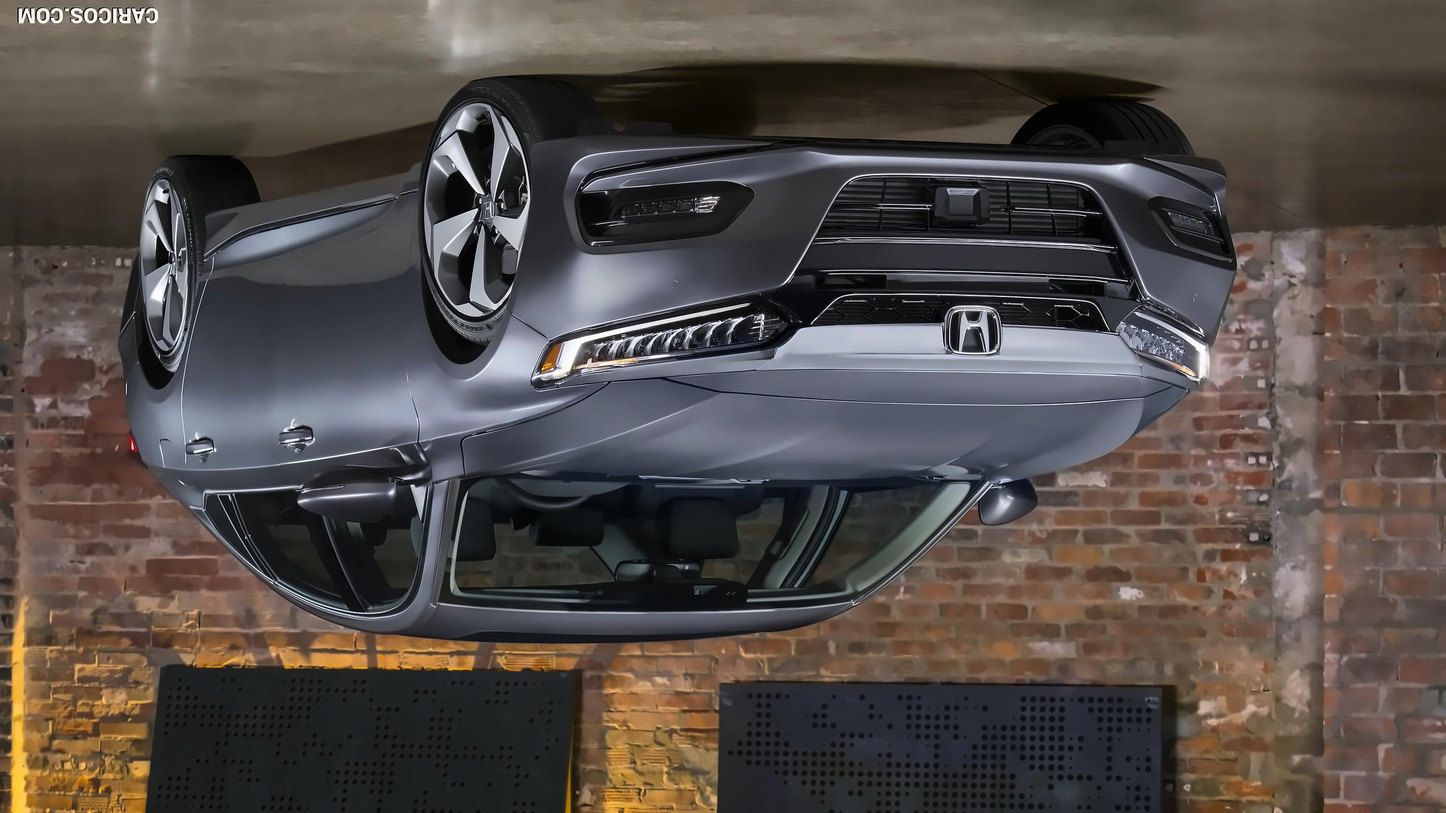Car hood: (447, 362, 1196, 481)
Fender - -F-L-: (405, 297, 609, 478)
Fender - -R-L-: (120, 266, 216, 469)
Front bumper: (499, 126, 1243, 342)
Headlight - -L-: (531, 290, 799, 387)
Headlight - -R-: (1116, 304, 1211, 386)
Passenger-s door - -F-L-: (271, 131, 451, 643)
Passenger-s door - -R-L-: (177, 162, 349, 618)
Side bumper - -L-: (201, 147, 424, 325)
Side mirror - -L-: (296, 459, 434, 522)
Side mirror - -R-: (980, 480, 1038, 533)
